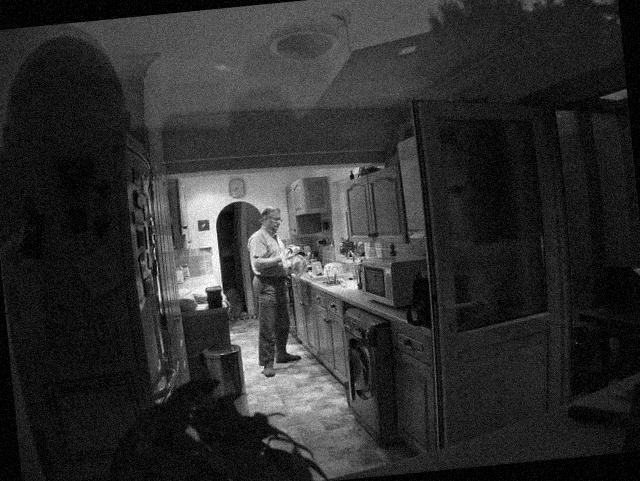Bote de Basura: (201, 339, 252, 431)
Lavaplatos: (302, 243, 377, 293)
